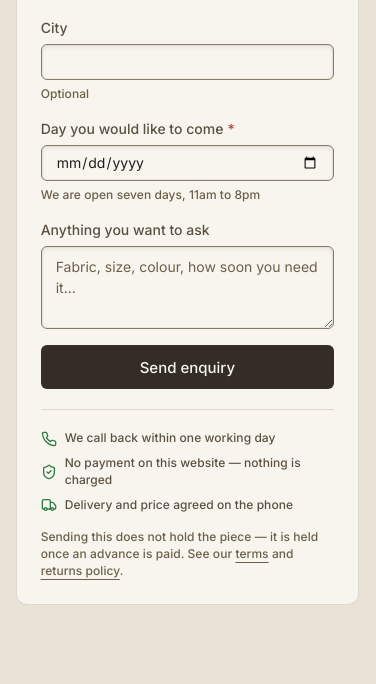
Test: sending an enquiry › marks the missing fields invalid and says why
(page scrolled)
Click the button "Send enquiry" at (187, 367), box [41,345,334,389]
(page scrolled)
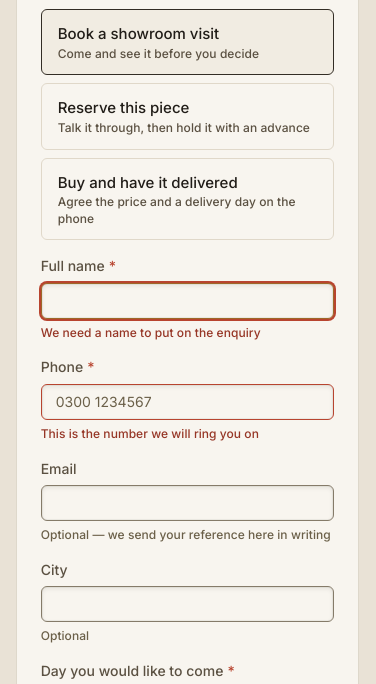
Result: the number of messages is 3
